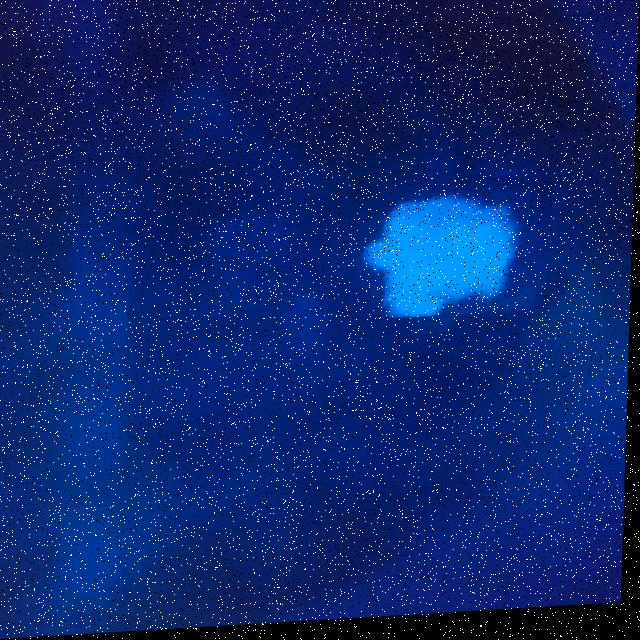thermocoal: (352, 164, 556, 325)
